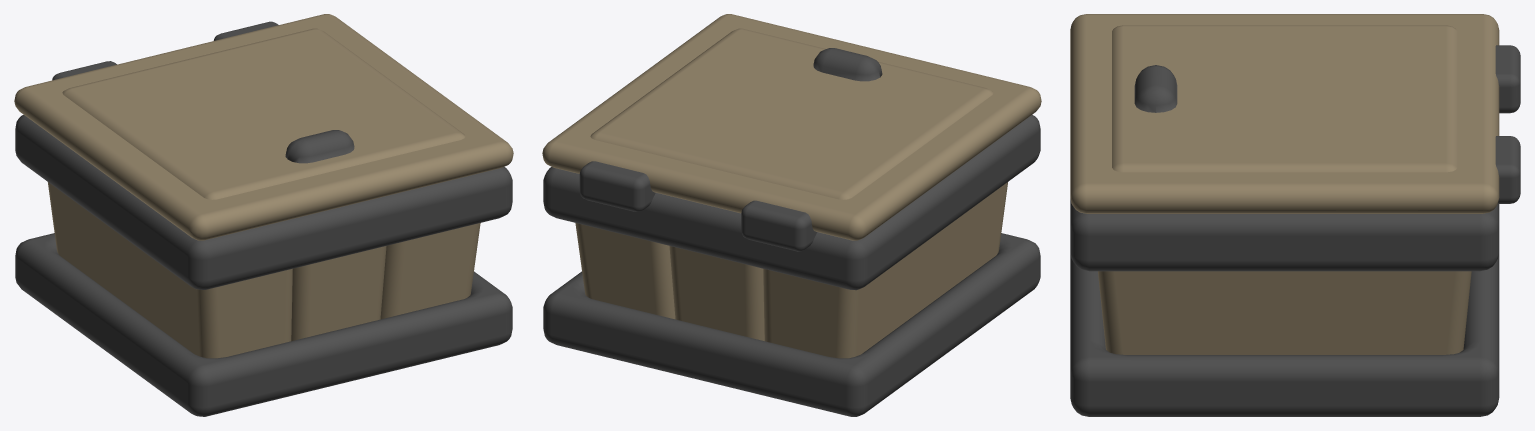
The model's file is TrashStation.fbx.
3 views of the same model, side by side, from view 1: azimuth 30°, elevation 25°; view 2: azimuth 150°, elevation 25°; view 3: azimuth 270°, elevation 25° (orthographic). The views are drawn at different scales.
Visible parts, largest first — view 1: TrashStation, TrashLid.001; view 2: TrashStation, TrashLid.001; view 3: TrashStation, TrashLid.001.
Boxes of the visible parts, box(x1,y1,x2,y2) form: TrashStation: box(15, 21, 512, 416); TrashLid.001: box(14, 14, 513, 240); TrashStation: box(543, 115, 1040, 416); TrashLid.001: box(542, 14, 1041, 240); TrashStation: box(1070, 45, 1520, 416); TrashLid.001: box(1070, 14, 1499, 213).
Bounding box in the file's own units: 200 × 132 × 210.
